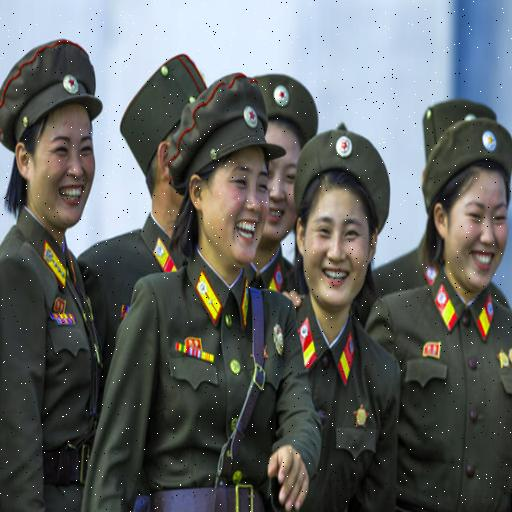north army: (0, 25, 512, 512)
